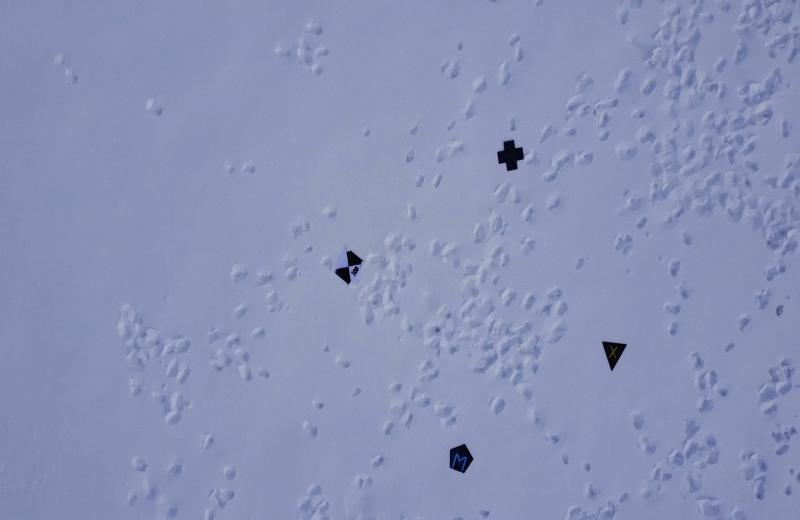Cross: (495, 137, 526, 172)
Pentagon: (445, 440, 477, 475)
Triangle: (596, 335, 631, 377)
